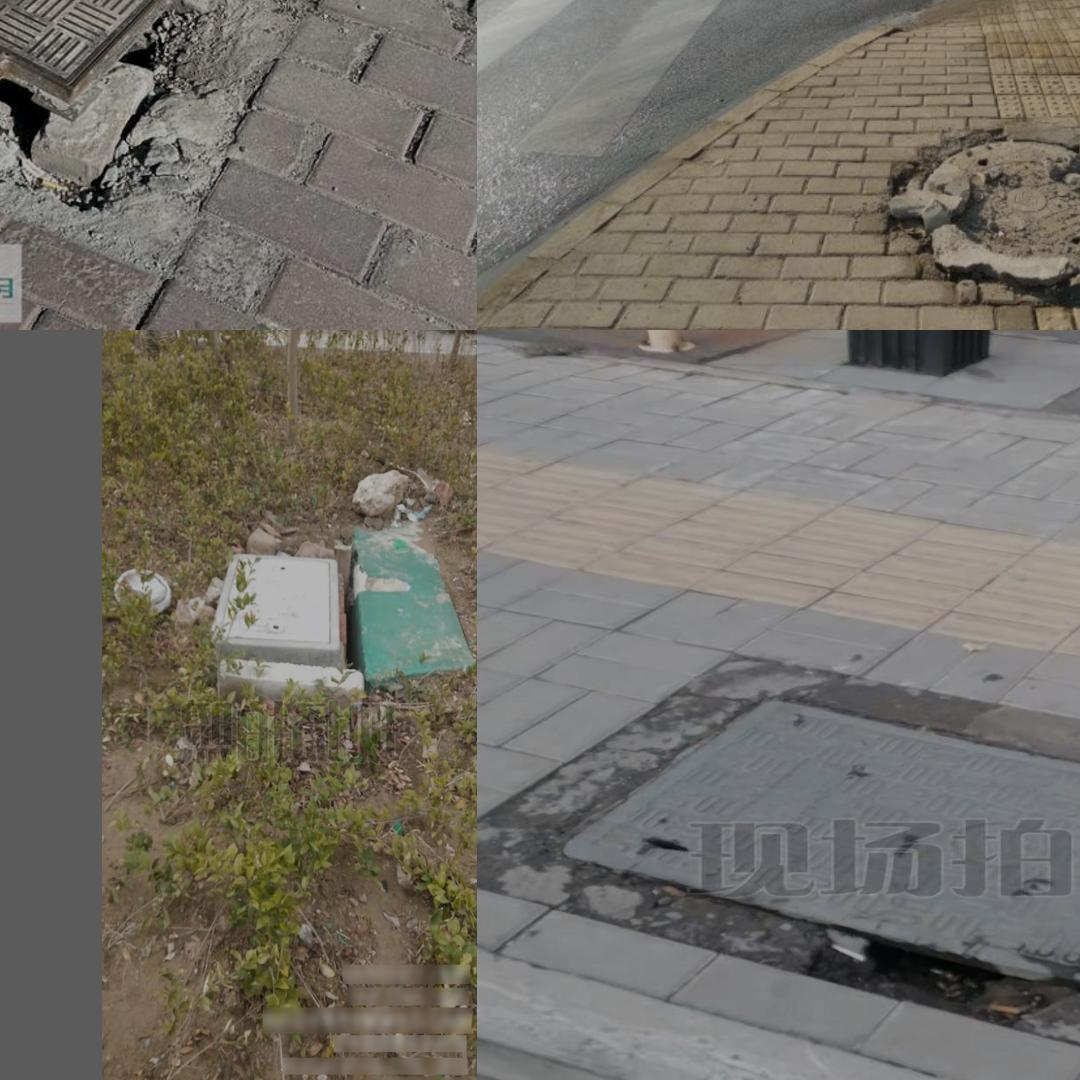circle: (489, 655, 1080, 1078), (0, 0, 341, 221), (886, 110, 1080, 293), (201, 543, 366, 690)
